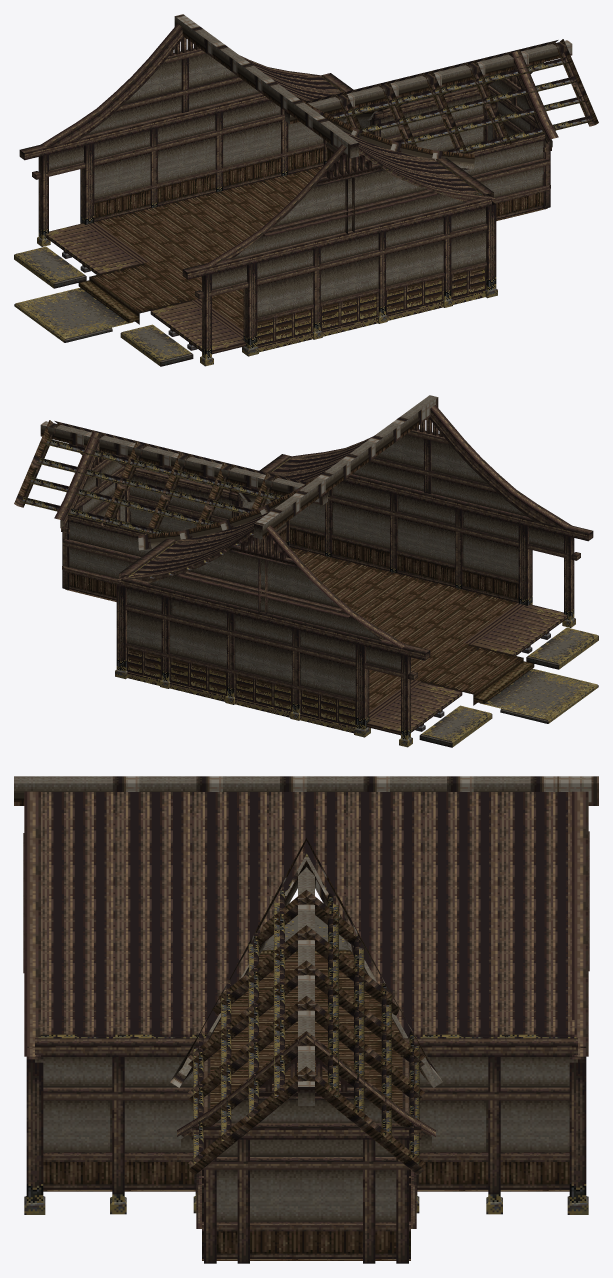
Rendered from EnvBdg_Desert_Dojo_A_Indoor_A.FBX.
3 renders of one model, top to bottom at view 1: azimuth 30°, elevation 25°; view 2: azimuth 150°, elevation 25°; view 3: azimuth 270°, elevation 25°, orthographic. The views are drawn at different scales.
Visible parts, largest first — view 1: EnvBdg_Desert_Dojo_A_Indoor_A; view 2: EnvBdg_Desert_Dojo_A_Indoor_A; view 3: EnvBdg_Desert_Dojo_A_Indoor_A.
Boxes of the visible parts, x1,y1,x2,y2 form: EnvBdg_Desert_Dojo_A_Indoor_A: [14, 14, 598, 366]; EnvBdg_Desert_Dojo_A_Indoor_A: [14, 395, 598, 747]; EnvBdg_Desert_Dojo_A_Indoor_A: [14, 776, 598, 1263].
Bounding box in the file's own units: 2440 × 835 × 1400.
